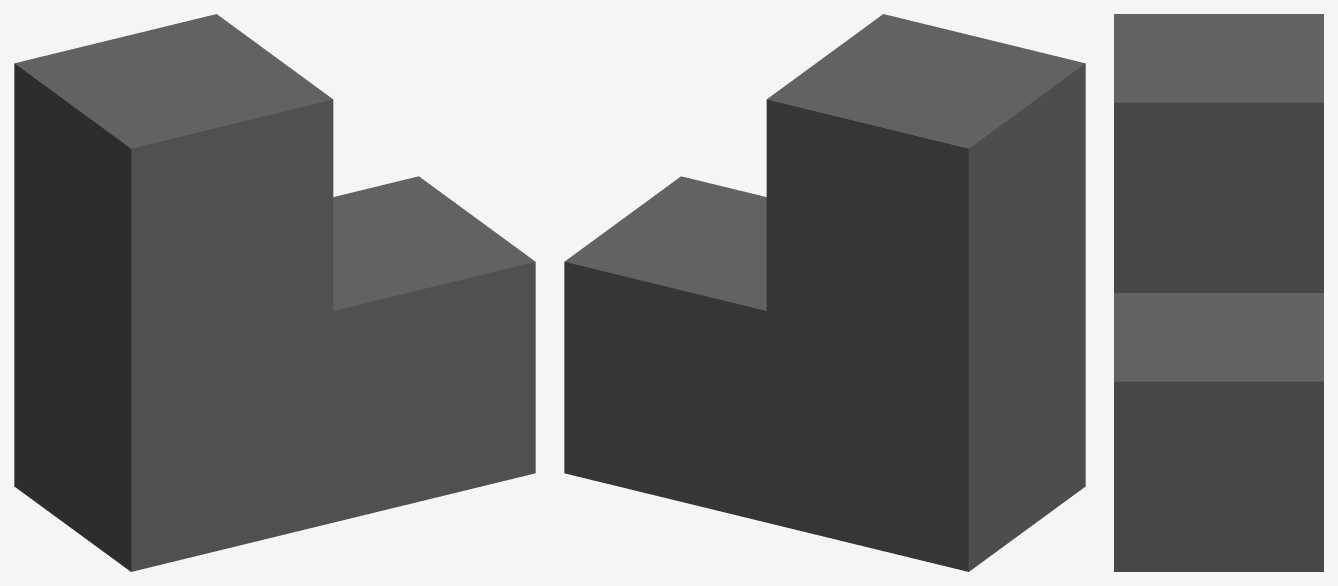
The picture shows the model from 3 angles, left to right: view 1: azimuth 30°, elevation 25°; view 2: azimuth 150°, elevation 25°; view 3: azimuth 270°, elevation 25°; orthographic projection. The views are drawn at different scales.
Parts seen in each view (by area): view 1: geometry_0; view 2: geometry_0; view 3: geometry_0.
Part boxes in pixels (<box>): geometry_0: <box>14,14,535,571</box>; geometry_0: <box>564,14,1085,571</box>; geometry_0: <box>1114,14,1323,571</box>.
Bounding box in the file's own units: 0.2 × 0.2 × 0.1.
1 material, 1 textured.
